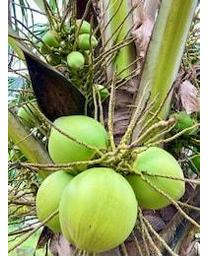coconut: (60, 168, 139, 252), (118, 147, 186, 214), (47, 112, 112, 174), (33, 171, 88, 234)
